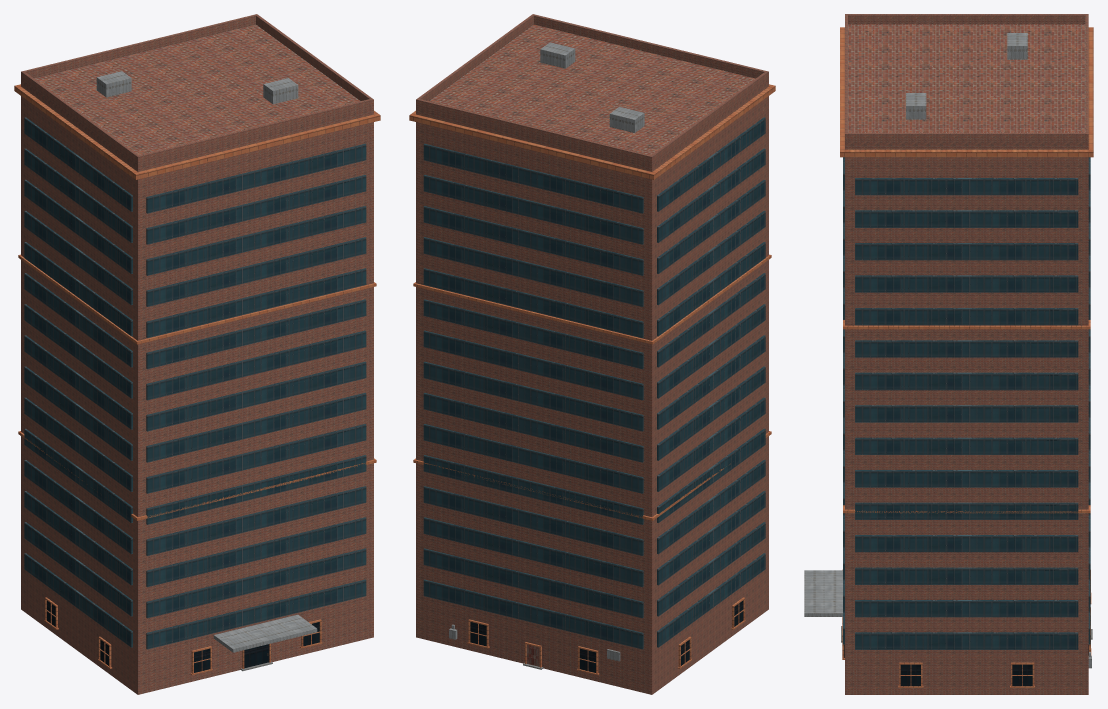
File: grand-river-house_lod0.gltf
3 views of the same model, side by side, from view 1: azimuth 30°, elevation 25°; view 2: azimuth 150°, elevation 25°; view 3: azimuth 270°, elevation 25° (orthographic). The views are drawn at different scales.
Visible parts, largest first — view 1: grand-river-house_main, grand-river-house_fen_07-glass-curtain-blue_0, grand-river-house__cornice, grand-river-house__parapet_front, grand-river-house__parapet_back, grand-river-house__canopy, grand-river-house__string_course_2, grand-river-house_fen_07-glass-curtain-blue_2_t, grand-river-house__parapet_left, grand-river-house__parapet_right, grand-river-house_fen_10-terracotta_1, grand-river-house__string_course_1 (+2 smaller); view 2: grand-river-house_main, grand-river-house_fen_07-glass-curtain-blue_0, grand-river-house__cornice, grand-river-house__parapet_back, grand-river-house__parapet_front, grand-river-house__string_course_2, grand-river-house__parapet_left, grand-river-house__parapet_right, grand-river-house_fen_10-terracotta_1, grand-river-house_fen_07-glass-curtain-blue_2_t, grand-river-house__hvac_b, grand-river-house__hvac_a (+1 smaller); view 3: grand-river-house_main, grand-river-house_fen_07-glass-curtain-blue_0, grand-river-house__cornice, grand-river-house__parapet_right, grand-river-house__parapet_left, grand-river-house__canopy, grand-river-house__string_course_2, grand-river-house_fen_07-glass-curtain-blue_2_t, grand-river-house_fen_10-terracotta_1, grand-river-house__string_course_1, grand-river-house__hvac_a, grand-river-house__hvac_b (+1 smaller).
Part boxes in pixels (x1,y1,x2,y2): grand-river-house_main: (21, 24, 373, 694); grand-river-house_fen_07-glass-curtain-blue_0: (24, 117, 366, 649); grand-river-house__cornice: (14, 84, 380, 179); grand-river-house__parapet_front: (136, 98, 373, 165); grand-river-house__parapet_back: (21, 14, 257, 80); grand-river-house__canopy: (213, 614, 317, 652); grand-river-house__string_course_2: (18, 254, 376, 344); grand-river-house_fen_07-glass-curtain-blue_2_t: (46, 600, 319, 672); grand-river-house__parapet_left: (22, 72, 138, 164); grand-river-house__parapet_right: (256, 15, 371, 100); grand-river-house_fen_10-terracotta_1: (44, 597, 322, 675); grand-river-house__string_course_1: (18, 431, 376, 520); grand-river-house_main: (416, 24, 768, 694); grand-river-house_fen_07-glass-curtain-blue_0: (423, 117, 765, 649); grand-river-house__cornice: (409, 84, 775, 179); grand-river-house__parapet_back: (416, 98, 653, 165); grand-river-house__parapet_front: (532, 14, 768, 80); grand-river-house__string_course_2: (413, 254, 771, 344); grand-river-house__parapet_left: (651, 72, 767, 164); grand-river-house__parapet_right: (418, 15, 533, 100); grand-river-house_fen_10-terracotta_1: (467, 597, 745, 675); grand-river-house_fen_07-glass-curtain-blue_2_t: (470, 600, 743, 672); grand-river-house__hvac_b: (540, 42, 575, 68); grand-river-house__hvac_a: (609, 106, 644, 132); grand-river-house_main: (845, 24, 1088, 694); grand-river-house_fen_07-glass-curtain-blue_0: (843, 157, 1090, 649); grand-river-house__cornice: (840, 27, 1093, 157); grand-river-house__parapet_right: (848, 132, 1085, 143); grand-river-house__parapet_left: (848, 14, 1085, 24); grand-river-house__canopy: (804, 570, 842, 616); grand-river-house__string_course_2: (843, 320, 1090, 329); grand-river-house_fen_07-glass-curtain-blue_2_t: (844, 644, 1088, 686); grand-river-house_fen_10-terracotta_1: (842, 569, 1091, 687); grand-river-house__string_course_1: (843, 505, 1090, 513); grand-river-house__hvac_a: (1007, 33, 1027, 59); grand-river-house__hvac_b: (906, 93, 926, 119).
Bounding box in the file's own units: 29 × 61.5 × 28.5.
